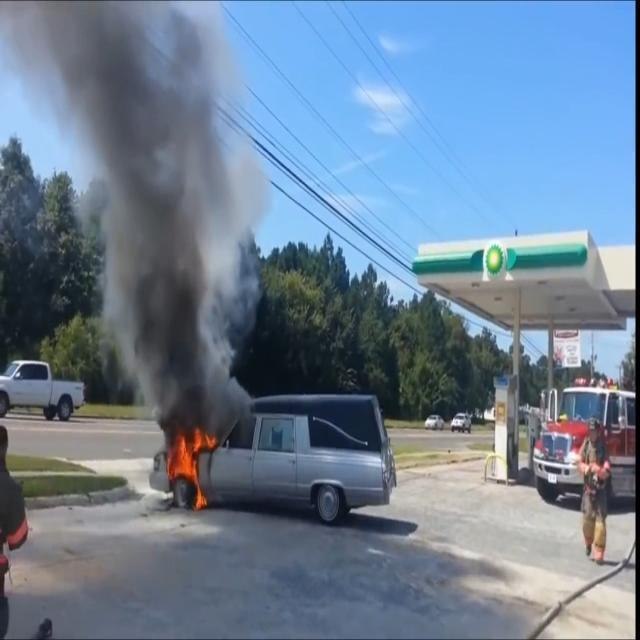fire: (160, 419, 216, 509)
